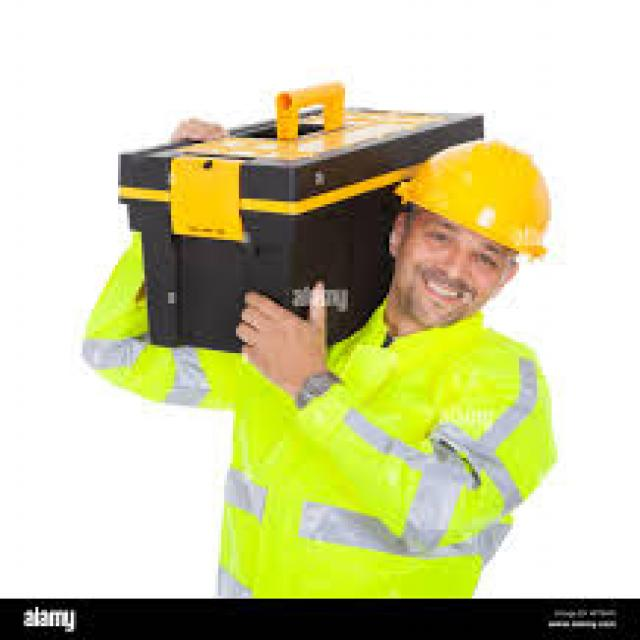Reflective-Jacket: (162, 301, 552, 593)
Safety-Helmet: (390, 133, 558, 260)
